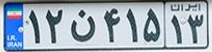character: (68, 7, 98, 44), (43, 6, 66, 46), (102, 5, 124, 44), (141, 6, 163, 45), (25, 6, 44, 46), (124, 6, 141, 44), (187, 12, 206, 44), (168, 13, 185, 46)
